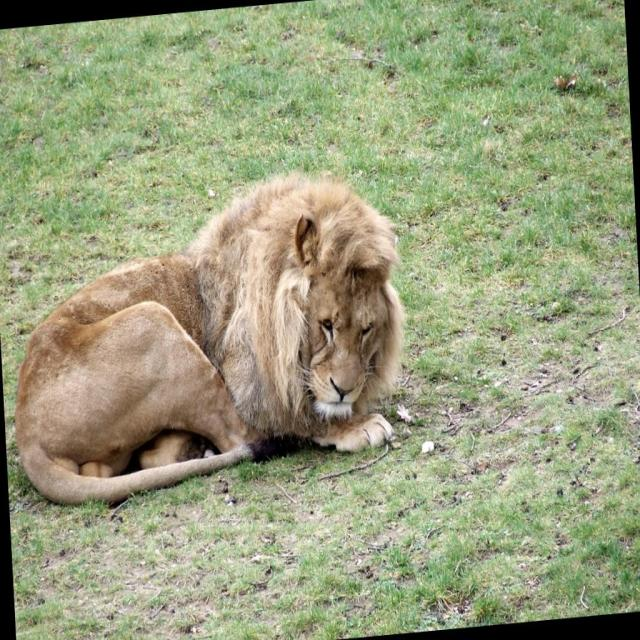Lion: (0, 154, 416, 514)
